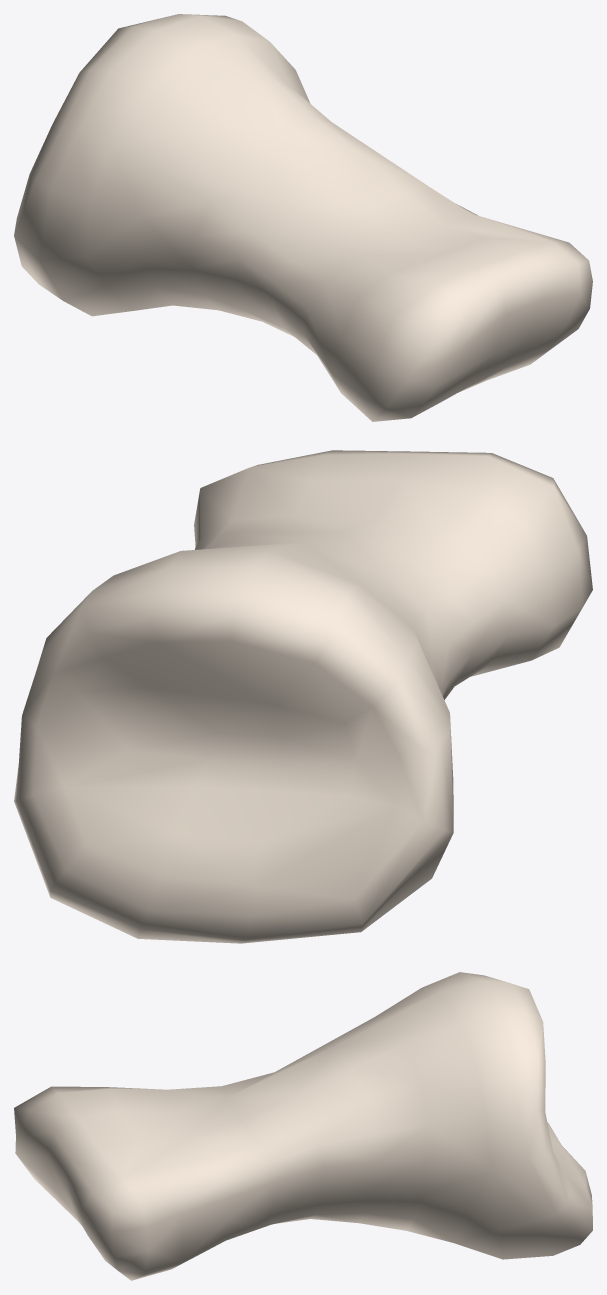
Rendered from left_toe_3_middle.glb.
3 views of the same model, one above another, from view 1: azimuth 30°, elevation 25°; view 2: azimuth 150°, elevation 25°; view 3: azimuth 270°, elevation 25° (orthographic). The views are drawn at different scales.
Visible parts, largest first — view 1: Middle phalanx of third finger of foot.r; view 2: Middle phalanx of third finger of foot.r; view 3: Middle phalanx of third finger of foot.r.
Part boxes in pixels (box(x1,y1,x2,y2)): Middle phalanx of third finger of foot.r: box(14, 14, 592, 421); Middle phalanx of third finger of foot.r: box(14, 450, 592, 943); Middle phalanx of third finger of foot.r: box(14, 972, 592, 1280).
Bounding box in the file's own units: 0.0117 × 0.00775 × 0.0169.
